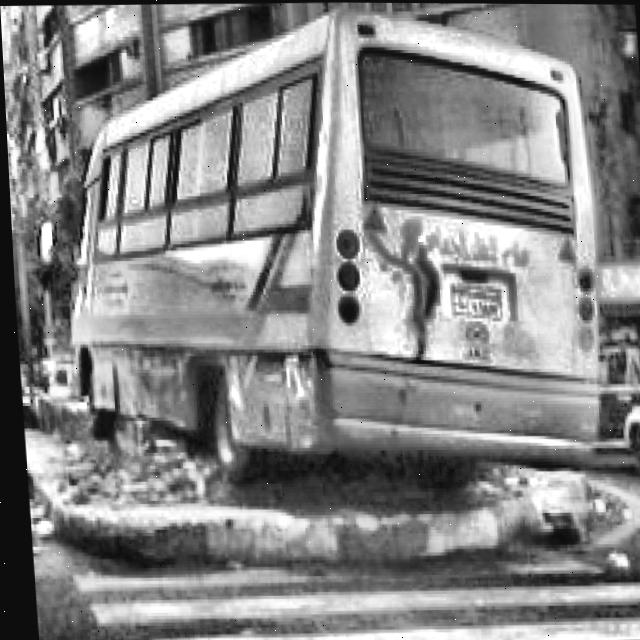light_vehicle: (581, 327, 640, 476)
